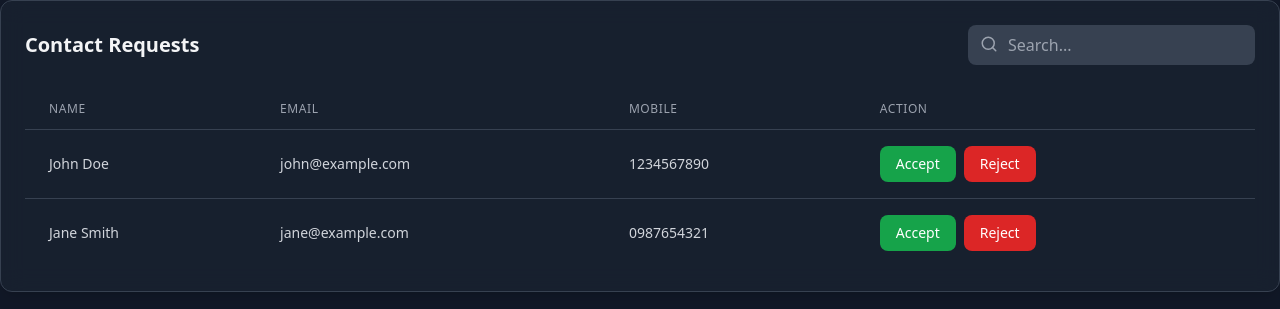
ContactRequests component › handles Accept action and removes the contact request
Expected: the text "John Doe" is shown, x1=25 y1=130 x2=256 y2=198
Click the Accept button for the first request (John Doe)
Click the button "Accept" in the row of "Doe". click: x=918, y=164
box: x1=880 y1=146 x2=956 y2=182
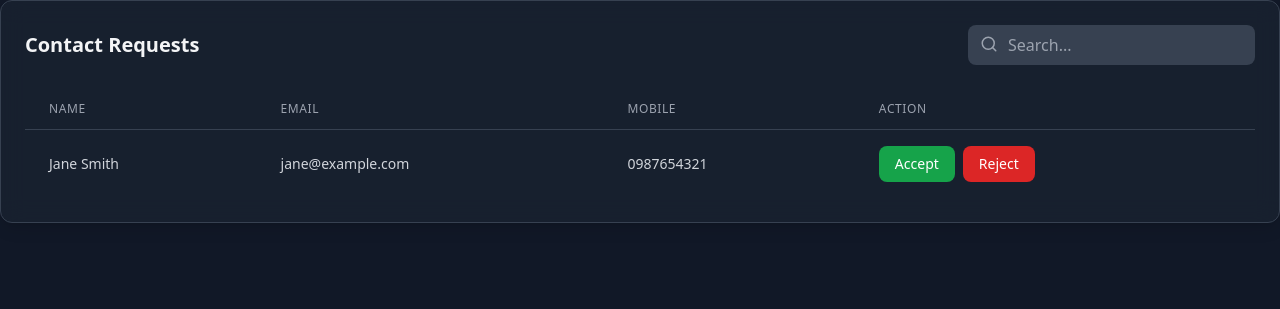
Now the text "John Doe" is gone
